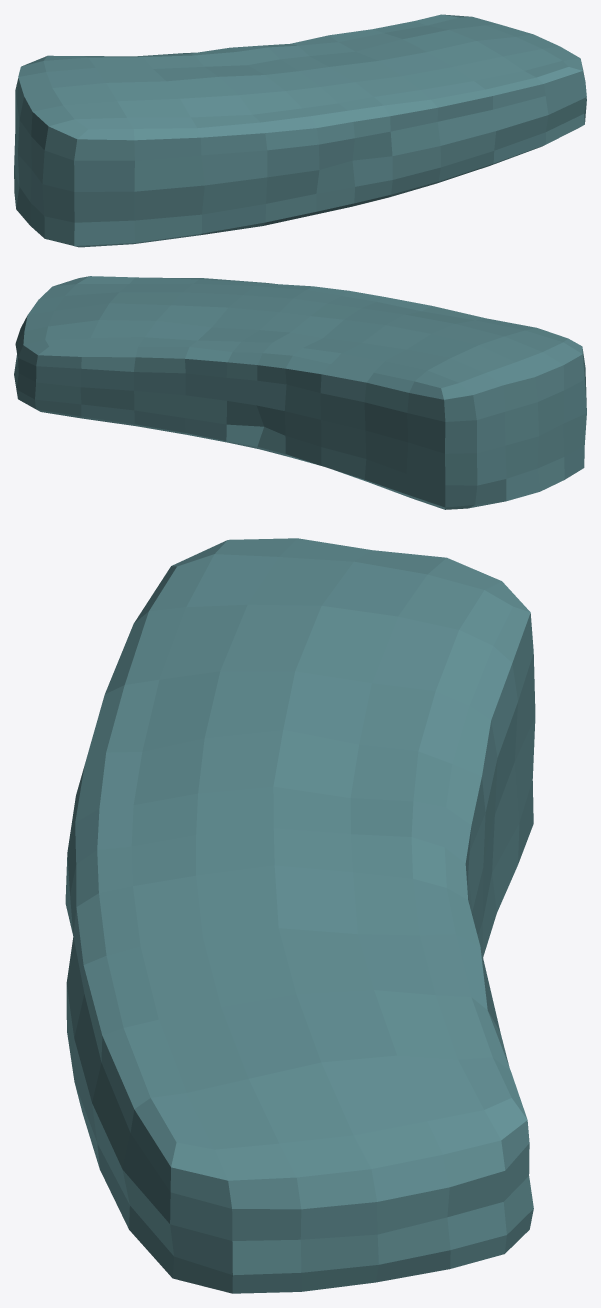
The model's file is Rock_Grass_02_Lod1_Mod1.fbx.
The picture shows the model from 3 angles, top to bottom: view 1: azimuth 30°, elevation 25°; view 2: azimuth 150°, elevation 25°; view 3: azimuth 270°, elevation 25°; orthographic projection. The views are drawn at different scales.
Parts seen in each view (by area): view 1: Rock_Grass_02_Lod1_Mod1; view 2: Rock_Grass_02_Lod1_Mod1; view 3: Rock_Grass_02_Lod1_Mod1.
Boxes of the visible parts, x1=… form: Rock_Grass_02_Lod1_Mod1: x1=14, y1=14, x2=586, y2=247; Rock_Grass_02_Lod1_Mod1: x1=14, y1=276, x2=586, y2=509; Rock_Grass_02_Lod1_Mod1: x1=65, y1=538, x2=535, y2=1293.
Size of the model in its own units: 1056 by 233 by 396.
